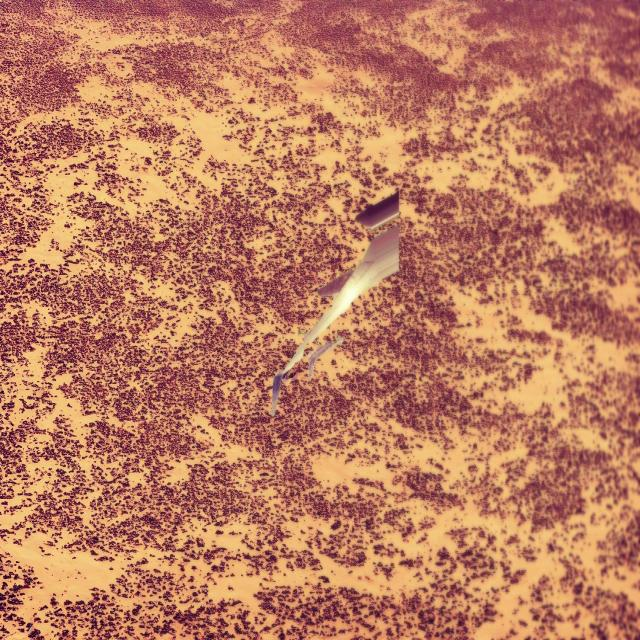airplane: (270, 191, 400, 417)
